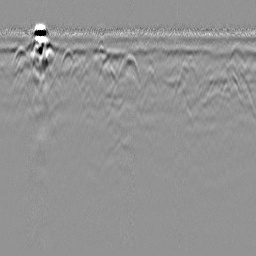cavity: (116, 51, 142, 84)
